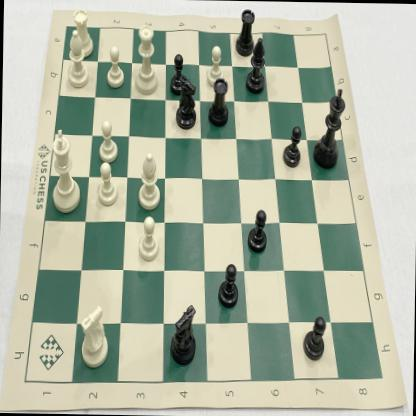bishop: (135, 148, 162, 212), (63, 28, 90, 90), (242, 34, 267, 96)
king: (45, 126, 83, 216), (311, 83, 348, 172)
knight: (76, 300, 113, 372), (168, 298, 201, 370), (174, 74, 200, 132)
pawn: (214, 258, 241, 312), (134, 212, 162, 264), (300, 312, 327, 363), (92, 159, 119, 208), (102, 42, 128, 92), (204, 42, 228, 90), (95, 115, 118, 164), (246, 206, 268, 257), (168, 52, 191, 98), (282, 122, 304, 169)
queen: (130, 19, 160, 100)
rook: (68, 1, 97, 59), (206, 75, 234, 128), (233, 8, 259, 59)
